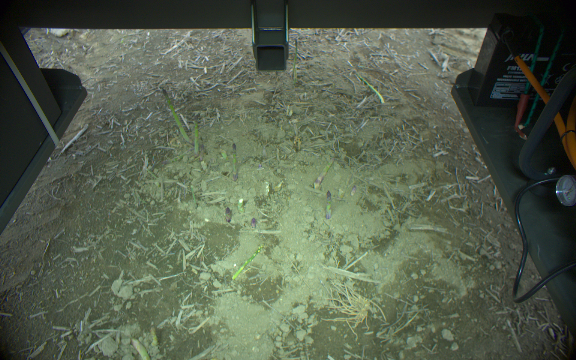aspa: (159, 87, 188, 143), (355, 71, 384, 105), (233, 246, 261, 278), (190, 115, 204, 160), (313, 158, 333, 187), (228, 143, 242, 181), (292, 38, 300, 80), (323, 189, 333, 219), (220, 204, 234, 223), (234, 199, 248, 215), (250, 217, 257, 229), (349, 183, 355, 196)
